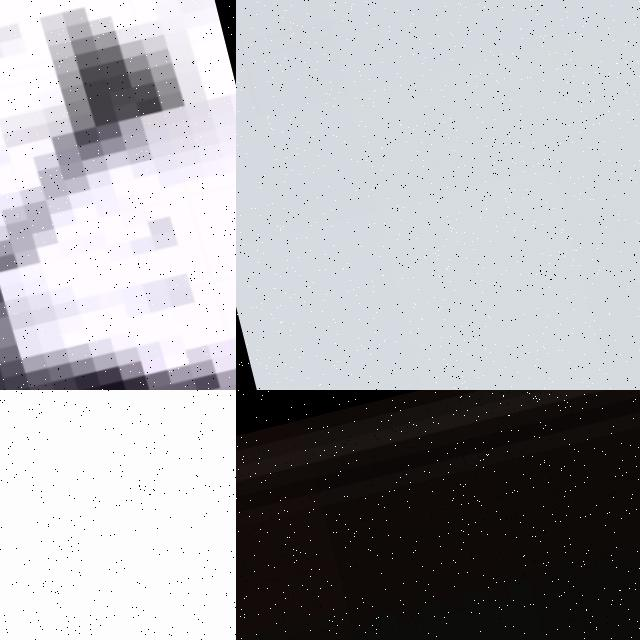drone: (0, 0, 236, 390)
